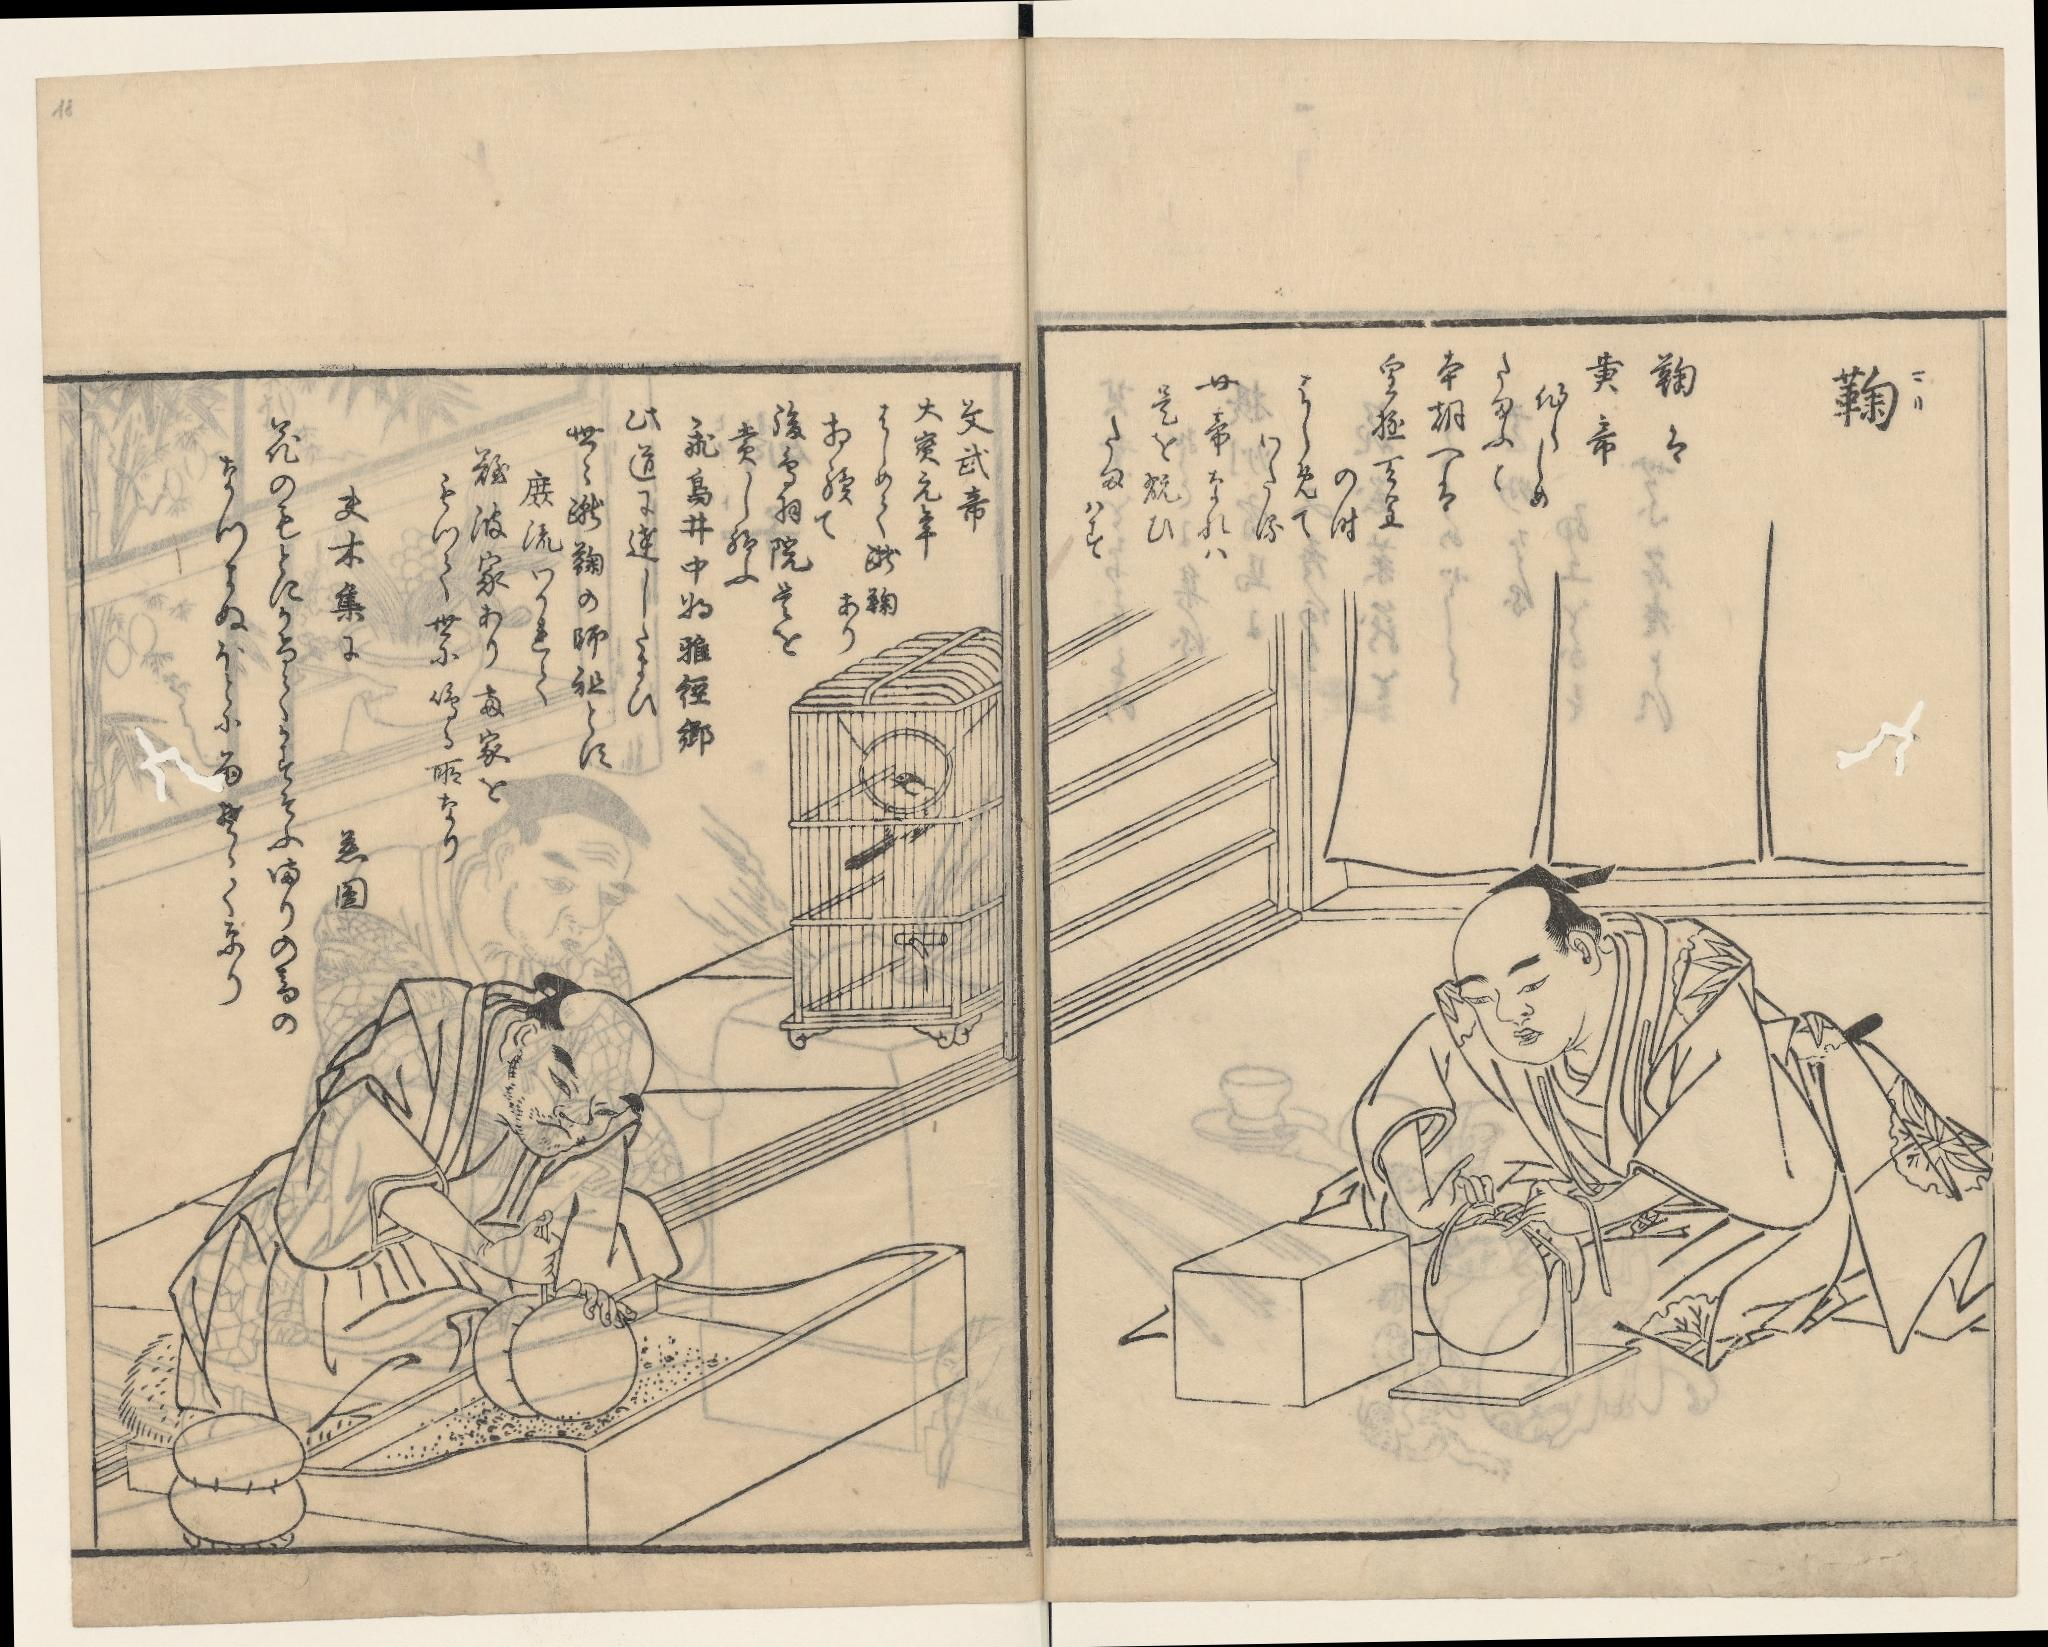MainZone-Character: (1823, 351, 1935, 440)
MainZone-Ruby: (1904, 363, 1929, 415)
